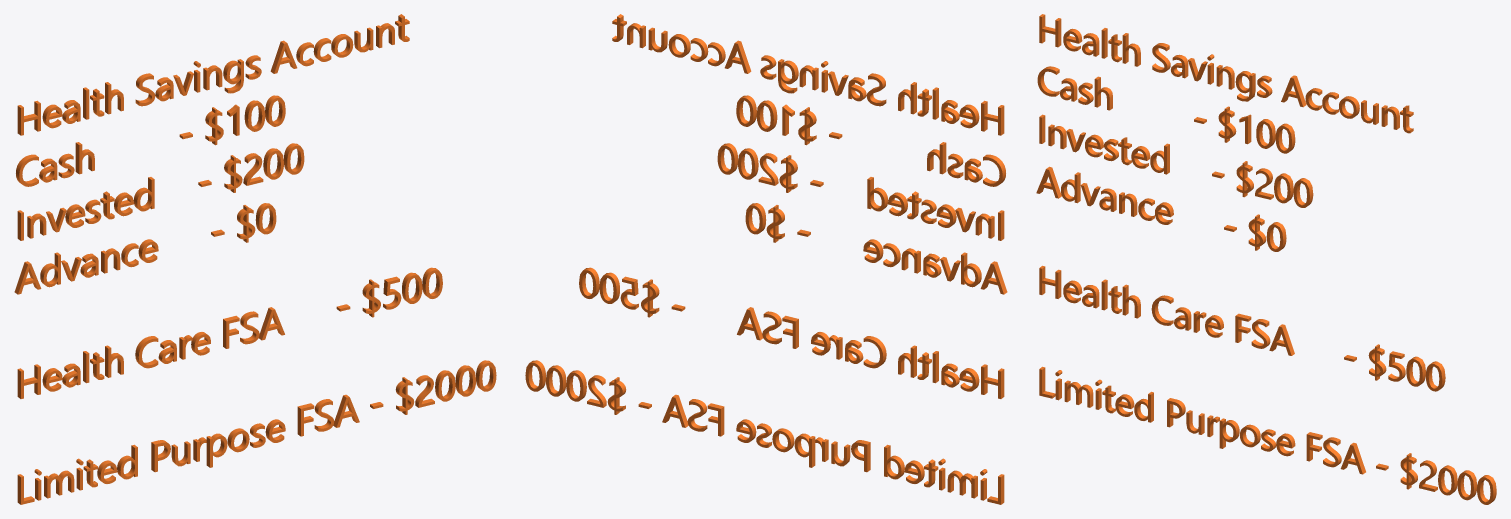
File: three.fbx
3 renders of one model, left to right at view 1: azimuth 30°, elevation 25°; view 2: azimuth 150°, elevation 25°; view 3: azimuth 330°, elevation 25°, orthographic. The views are drawn at different scales.
Parts seen in each view (by area): view 1: node_id75 (×6); view 2: node_id75 (×6); view 3: node_id75 (×6).
Boxes of the visible parts, x1,y1,x2,y2 form: node_id75 (×6): (14, 14, 496, 504); node_id75 (×6): (525, 14, 1007, 504); node_id75 (×6): (1036, 14, 1496, 504).
Bounding box in the file's own units: 1.21 × 0.9869 × 0.015.
